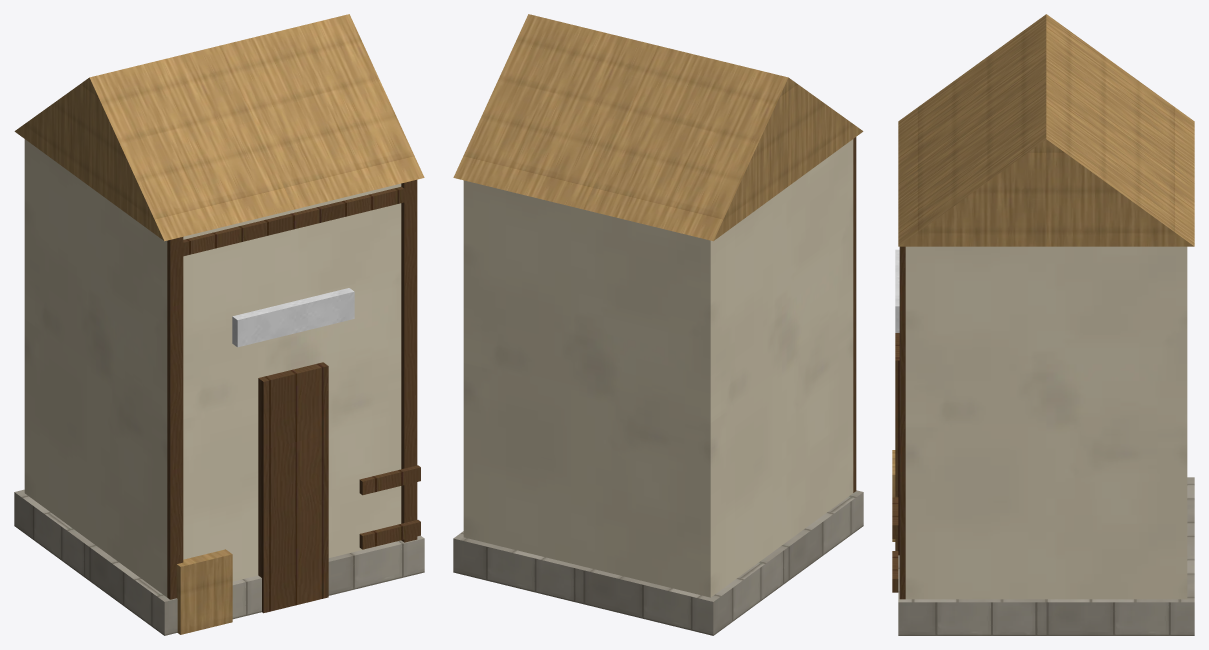
File: category.staking.t2.glb
3 views of the same model, side by side, from view 1: azimuth 30°, elevation 25°; view 2: azimuth 150°, elevation 25°; view 3: azimuth 270°, elevation 25° (orthographic).
Parts seen in each view (by area): view 1: building.category.staking.t2; view 2: building.category.staking.t2; view 3: building.category.staking.t2.
Part boxes in pixels (x1,y1,x2,y2): building.category.staking.t2: (14,14,424,635); building.category.staking.t2: (453,14,863,635); building.category.staking.t2: (892,14,1194,635).
Size of the model in its own units: 2 by 3.7 by 2.04.
Materials: 5 (5 with a texture image).
